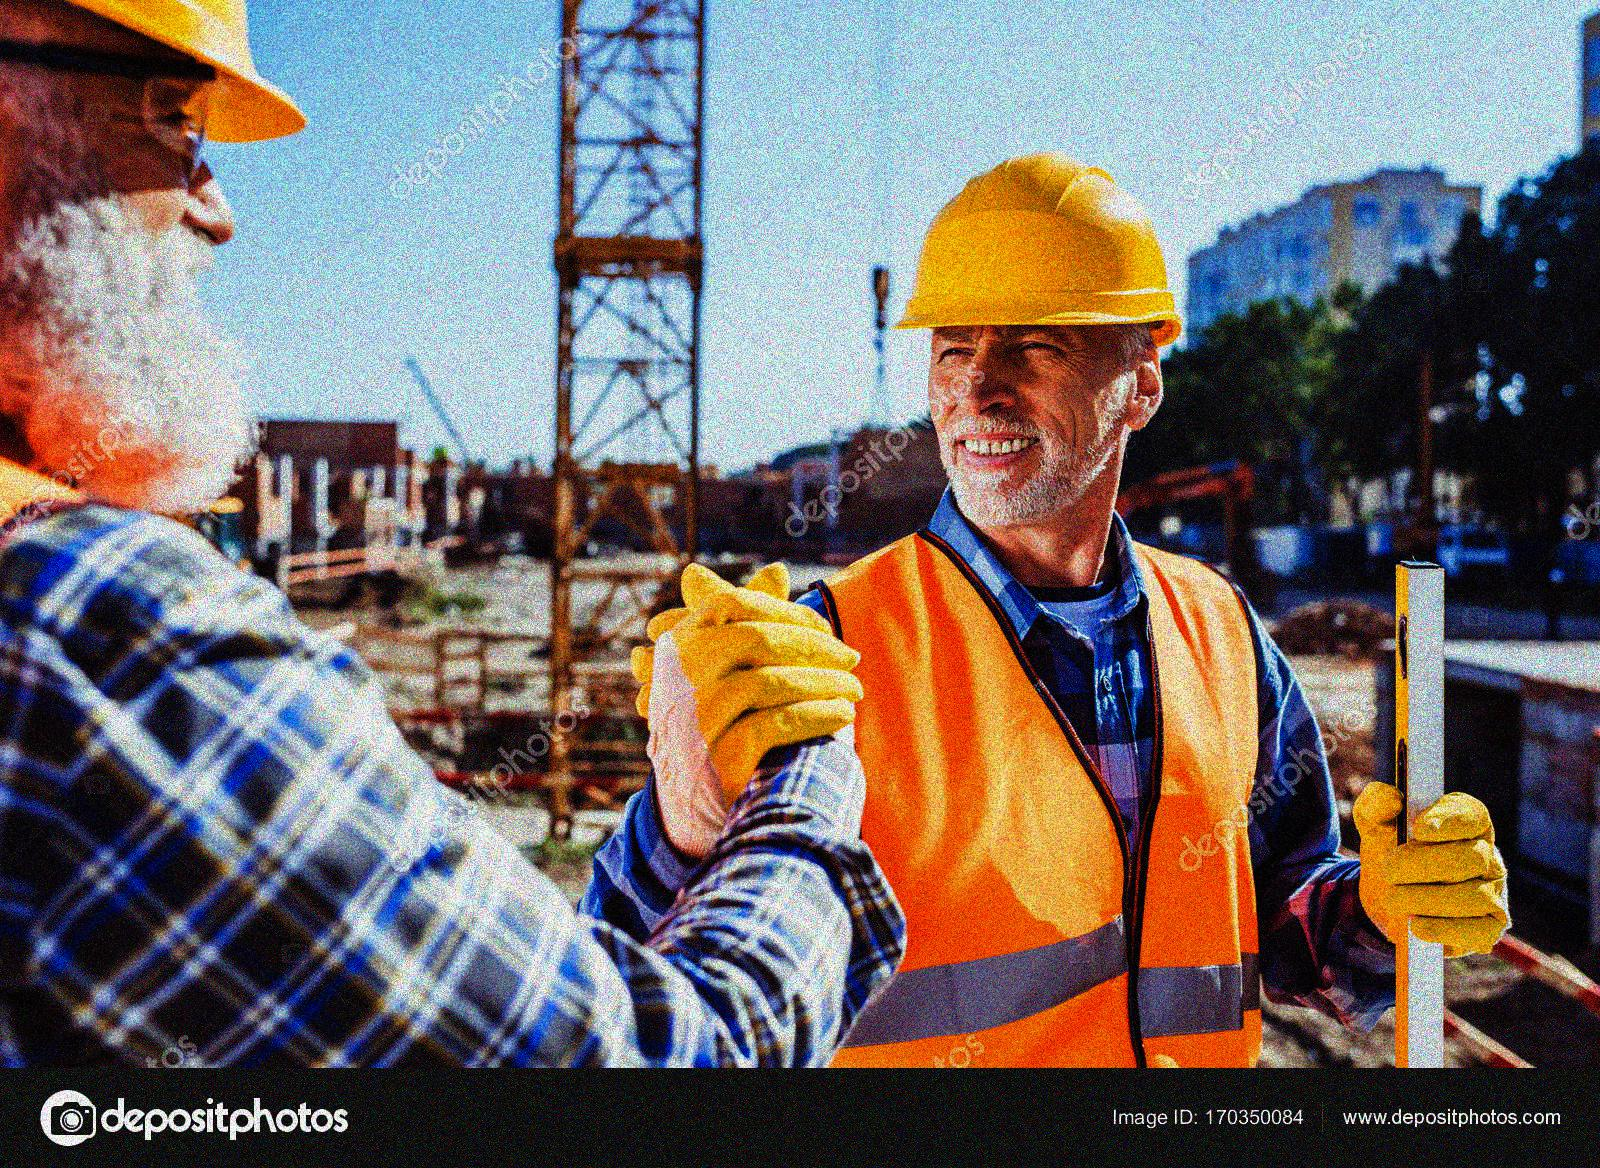helmet: (1, 1, 303, 451), (888, 143, 1195, 541)
